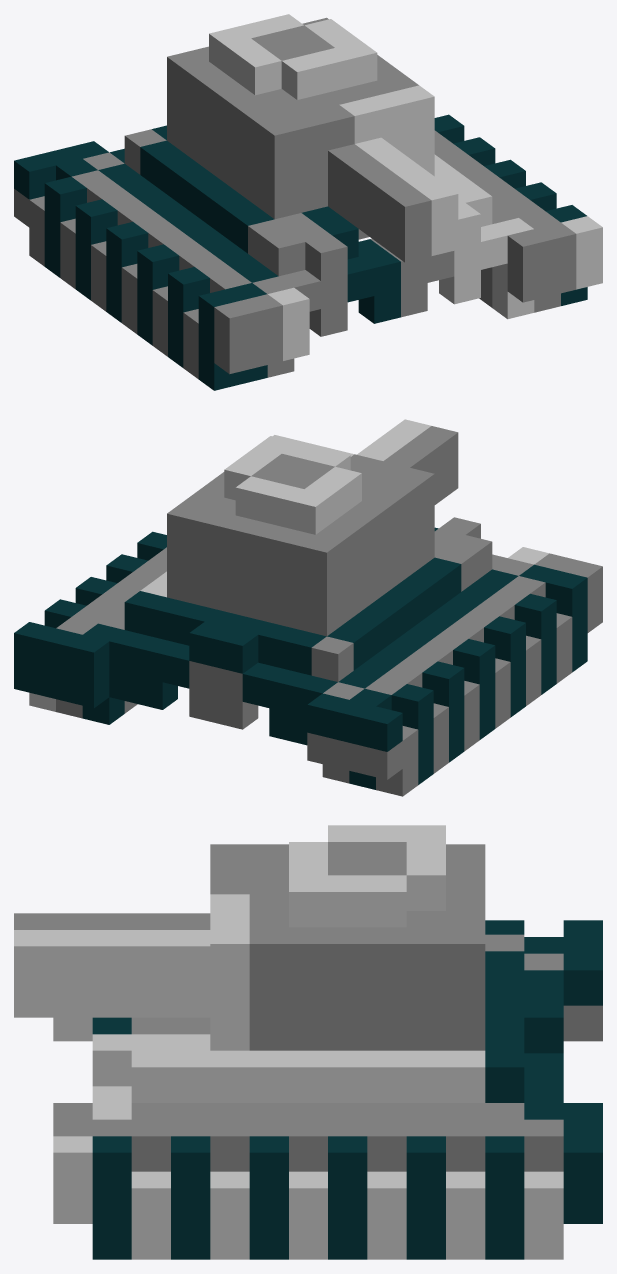
Rendered from super_gray_tank.glb.
The picture shows the model from 3 angles, top to bottom: view 1: azimuth 30°, elevation 25°; view 2: azimuth 150°, elevation 25°; view 3: azimuth 270°, elevation 25°; orthographic projection. The views are drawn at different scales.
Parts seen in each view (by area): view 1: Object_2.020; view 2: Object_2.020; view 3: Object_2.020.
Part boxes in pixels (x1,y1,x2,y2): Object_2.020: (14,14,602,390); Object_2.020: (14,419,602,796); Object_2.020: (14,825,602,1259).
Bounding box in the file's own units: 14 × 8 × 15.
Materials: 1 (1 with a texture image).
